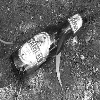beer: (8, 8, 90, 77)
